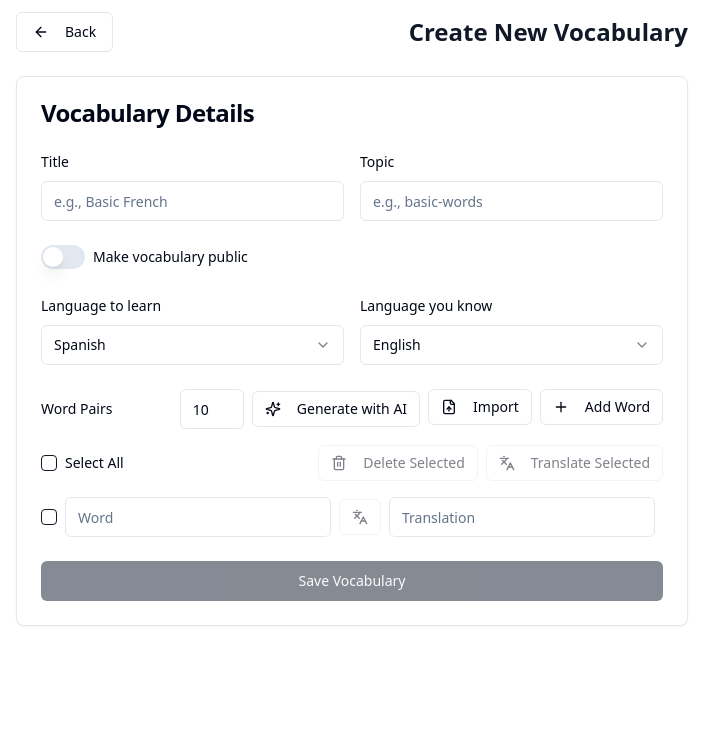
Test: CreateVocabulary Component › adds and removes word pairs
The width and height of the screenshot is (705, 747).
Expected: the number of fields with placeholder "Word" is 1, [65,497,331,537]
Expected: the number of fields with placeholder "Translation" is 1, [389,497,655,537]
// Add a word pair
Click the button "Add Word" at (601, 407), box [540,389,663,425]
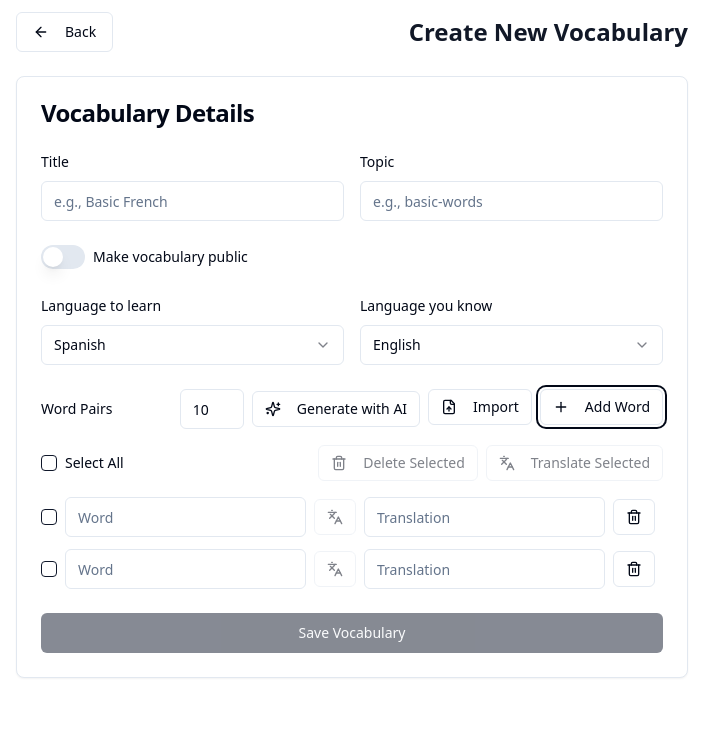
Result: the number of fields with placeholder "Word" is 2 at [65,497,306,537]; [65,549,306,589]
Result: the number of fields with placeholder "Translation" is 2 at [364,497,605,537]; [364,549,605,589]
// Add another word pair
Click the button "Add Word" at (601, 407), box [540,389,663,425]
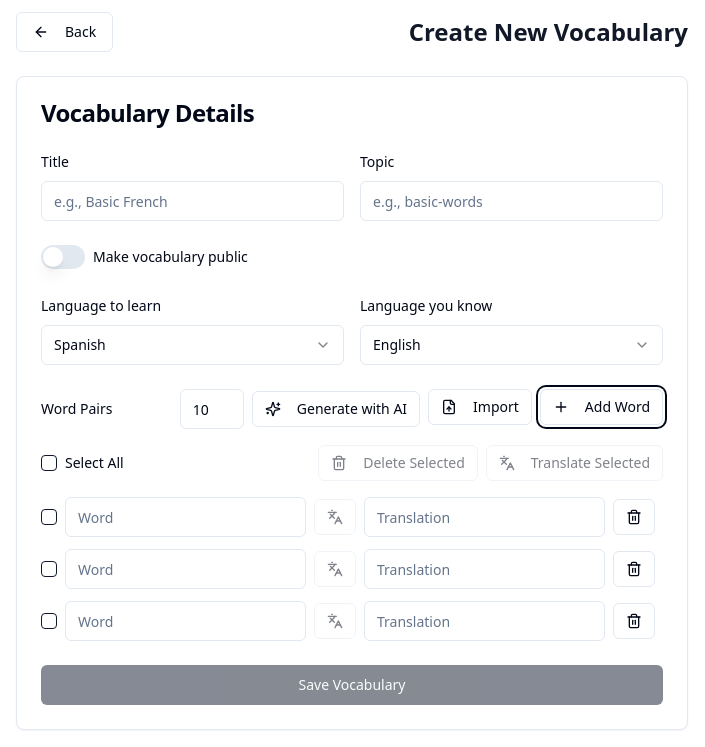
Result: the number of fields with placeholder "Word" is 3 at [65,497,306,537]; [65,549,306,589]; [65,601,306,641]
Result: the number of fields with placeholder "Translation" is 3 at [364,497,605,537]; [364,549,605,589]; [364,601,605,641]
Click the button with test id "remove-word-pair-1" at (634, 569), box [613,551,655,587]
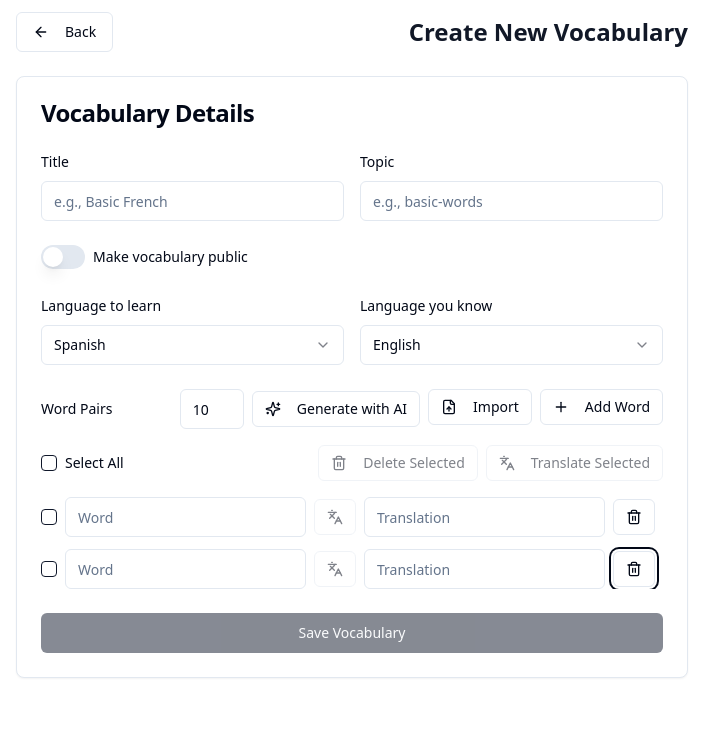
Result: the number of fields with placeholder "Word" is 2 at [65,497,306,537]; [65,549,306,589]
Result: the number of fields with placeholder "Translation" is 2 at [364,497,605,537]; [364,549,605,589]
